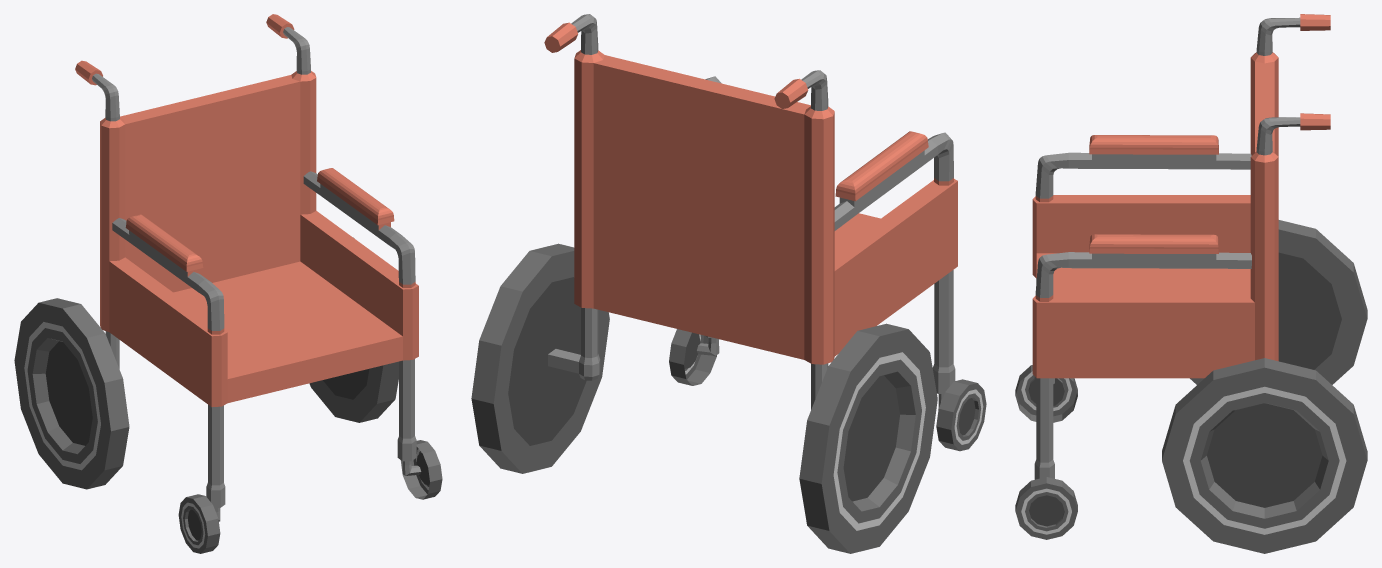
The model's file is wheelChair_modle.fbx.
3 renders of one model, left to right at view 1: azimuth 30°, elevation 25°; view 2: azimuth 150°, elevation 25°; view 3: azimuth 270°, elevation 25°, orthographic. The views are drawn at different scales.
Visible parts, largest first — view 1: wheelchair, rear_wheels, front_wheels; view 2: wheelchair, rear_wheels, front_wheels; view 3: wheelchair, rear_wheels, front_wheels.
Part boxes in pixels (bbox=[...]): wheelchair: bbox=[75, 14, 421, 521]; rear_wheels: bbox=[14, 237, 398, 489]; front_wheels: bbox=[178, 440, 442, 553]; wheelchair: bbox=[544, 14, 957, 409]; rear_wheels: bbox=[471, 243, 937, 553]; front_wheels: bbox=[669, 329, 986, 451]; wheelchair: bbox=[1032, 14, 1330, 479]; rear_wheels: bbox=[1162, 220, 1367, 553]; front_wheels: bbox=[1015, 365, 1077, 539].
Bounding box in the file's own units: 257 × 329 × 253.
